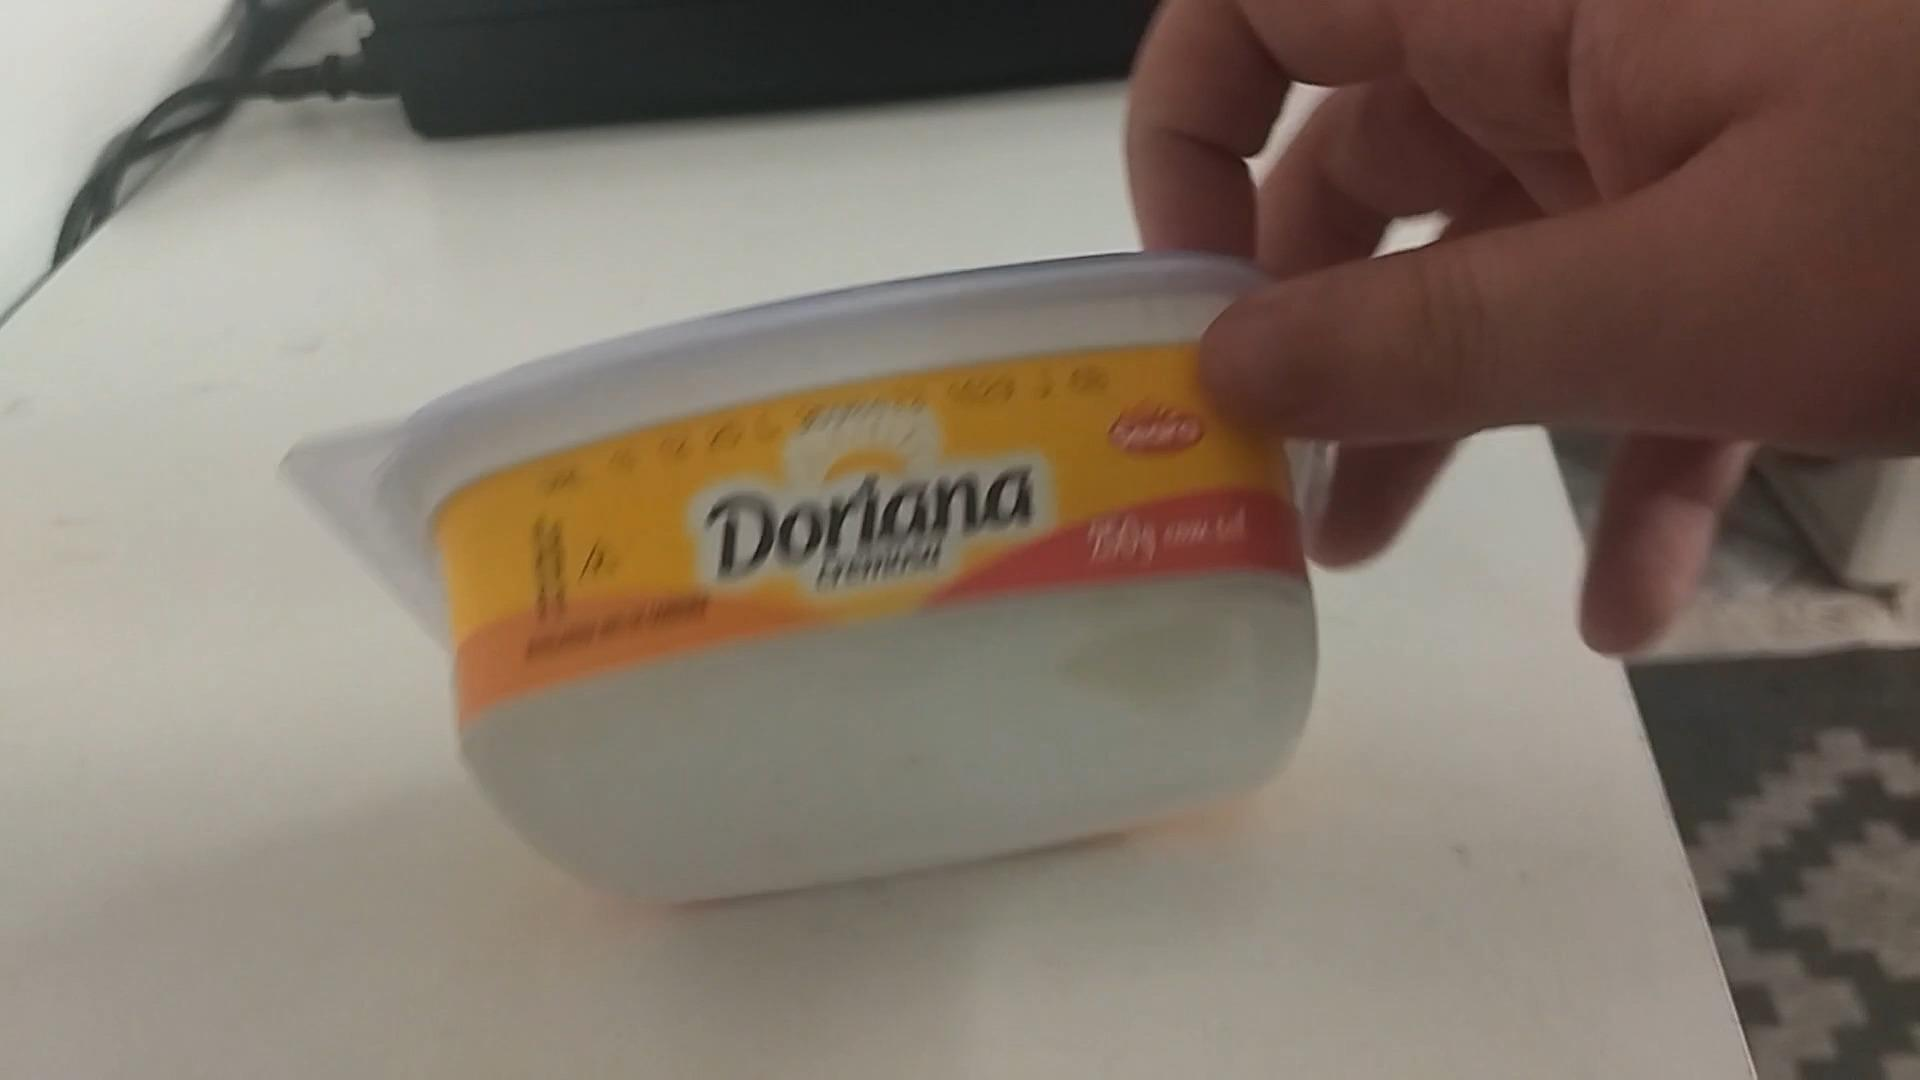butter: (289, 257, 1338, 910)
